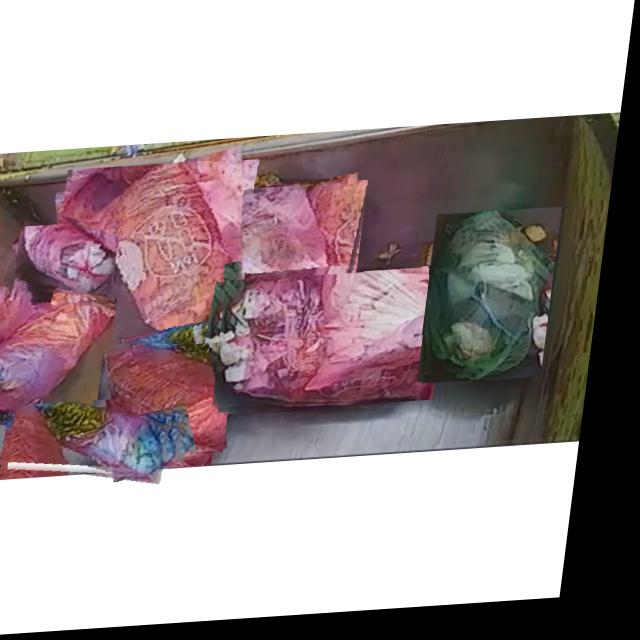general_trashbag: (436, 219, 563, 383)
other_trashbag: (65, 166, 252, 348), (194, 190, 352, 405), (227, 280, 448, 410), (0, 304, 123, 425), (112, 351, 239, 456), (38, 405, 179, 478), (27, 226, 122, 297), (67, 224, 70, 230)
